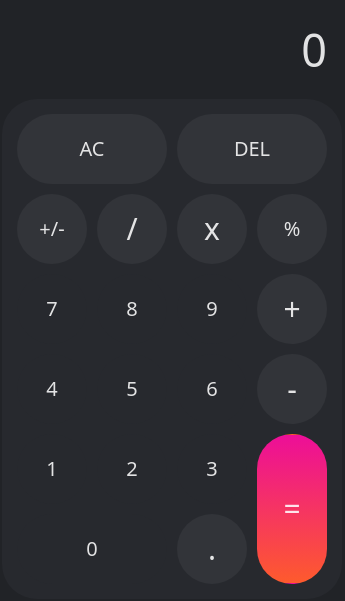
it: Display constraints › should return to 0 when deleting a single digit negative number
This screenshot has width=345, height=601.
Click the button "9".
click(212, 308)  # box [177,274,247,344]
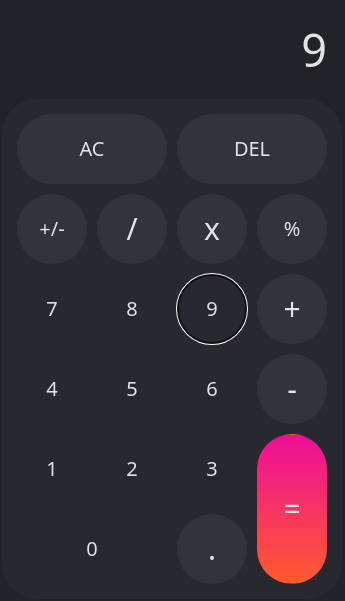
Click the button "9".
click(212, 308)  # box [177,274,247,344]
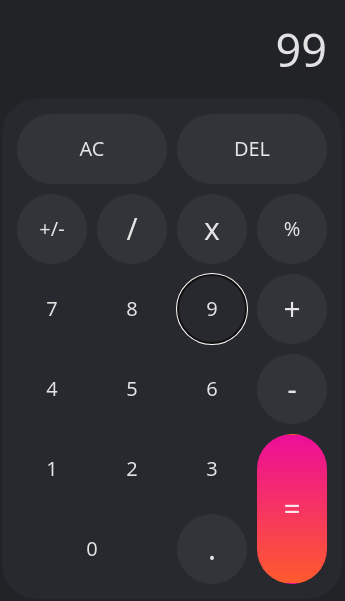
Click the button "+/-".
click(52, 228)  # box [17,194,87,264]
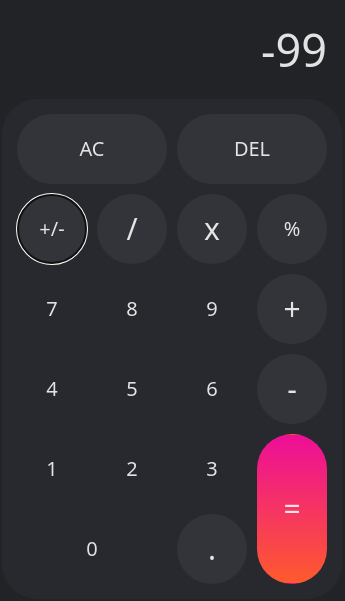
Click the button "DEL".
click(252, 148)  # box [177,114,327,184]
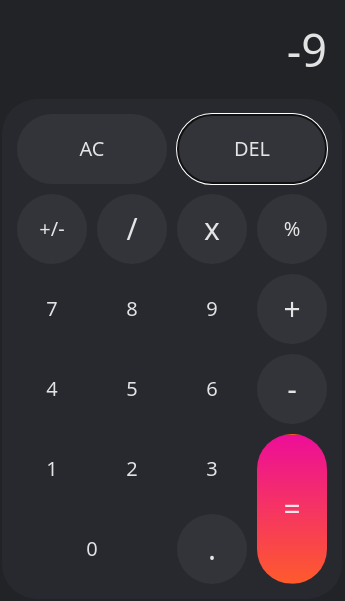
Now the text "-9" is shown, box [287,16,327,84]
Click the button "DEL".
click(252, 148)  # box [177,114,327,184]
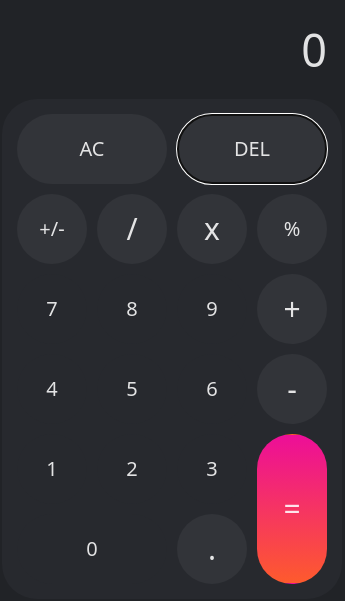
Now the text "0" is shown, box [301,16,327,84]
